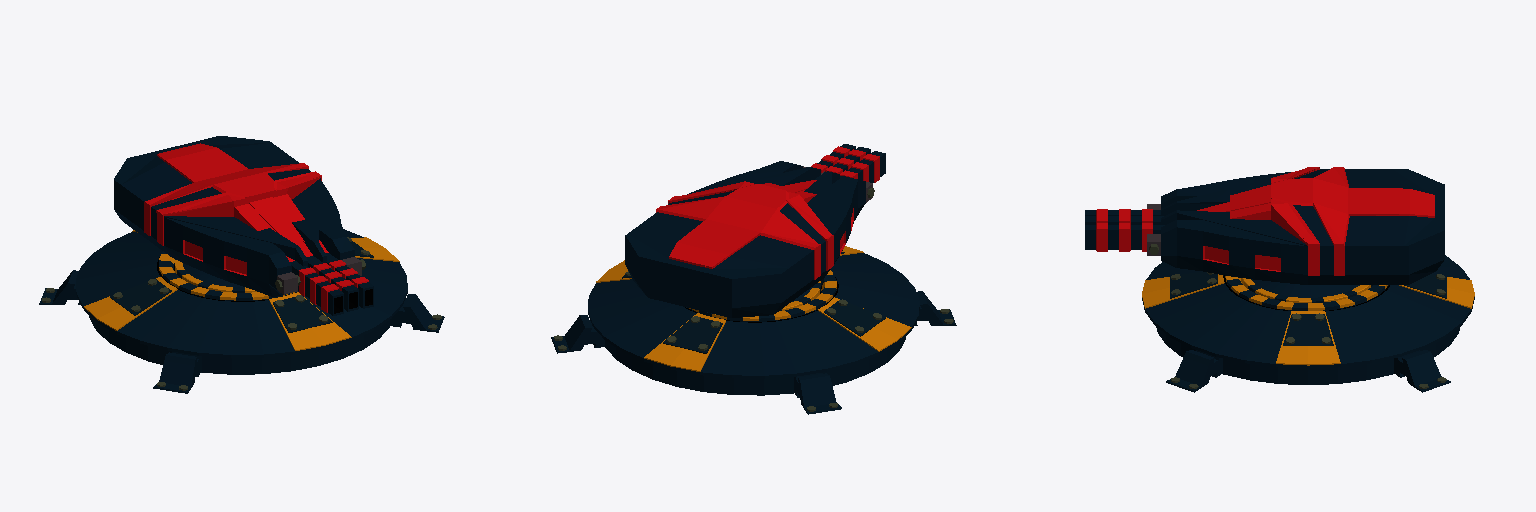
Rendered from TowerDefence.obj.
The picture shows the model from 3 angles: view 1: azimuth 30°, elevation 25°; view 2: azimuth 150°, elevation 25°; view 3: azimuth 270°, elevation 25°; orthographic projection.
Visible parts, largest first — view 1: Base_Circle, Lvl1_Cylinder.002, Lvl2_Cylinder.003; view 2: Base_Circle, Lvl1_Cylinder.002, Lvl2_Cylinder.003; view 3: Base_Circle, Lvl1_Cylinder.002, Lvl2_Cylinder.003.
Part boxes in pixels (left/top/right/bottom): Base_Circle: left=39, top=229, right=444, bottom=393; Lvl1_Cylinder.002: left=114, top=136, right=358, bottom=311; Lvl2_Cylinder.003: left=114, top=155, right=373, bottom=315; Base_Circle: left=551, top=246, right=956, bottom=414; Lvl1_Cylinder.002: left=625, top=147, right=870, bottom=310; Lvl2_Cylinder.003: left=625, top=144, right=885, bottom=317; Base_Circle: left=1142, top=255, right=1474, bottom=392; Lvl1_Cylinder.002: left=1085, top=167, right=1444, bottom=302; Lvl2_Cylinder.003: left=1085, top=168, right=1444, bottom=302.
Size of the model in its own units: 1.41 by 0.6078 by 1.64.